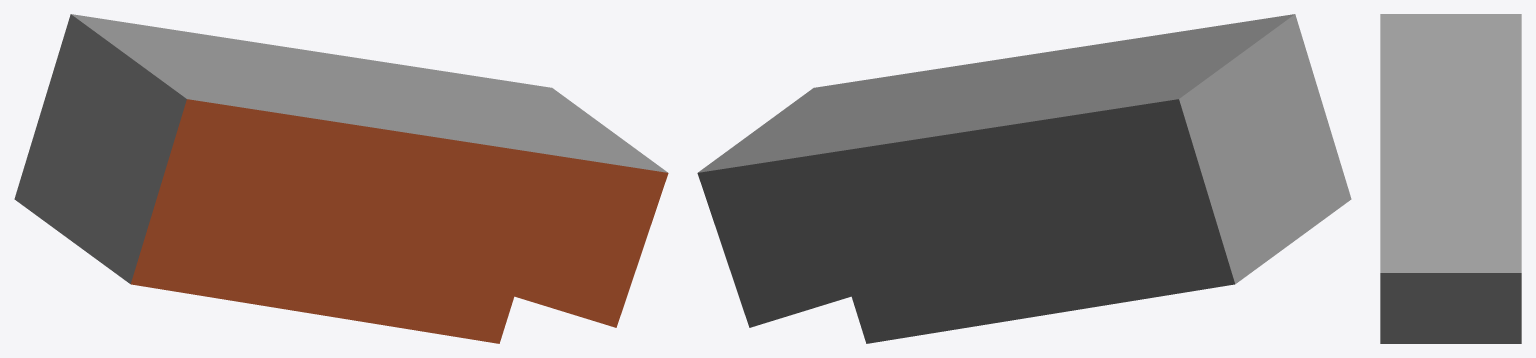
File: construction_6194_assumed_A_Casa_h6m.obj
3 renders of one model, left to right at view 1: azimuth 30°, elevation 25°; view 2: azimuth 150°, elevation 25°; view 3: azimuth 270°, elevation 25°, orthographic. The views are drawn at different scales.
Parts seen in each view (by area): view 1: construction_6194_assumed_A_Casa; view 2: construction_6194_assumed_A_Casa; view 3: construction_6194_assumed_A_Casa.
Part boxes in pixels (x1=…): construction_6194_assumed_A_Casa: x1=14, y1=14, x2=668, y2=343; construction_6194_assumed_A_Casa: x1=697, y1=14, x2=1351, y2=343; construction_6194_assumed_A_Casa: x1=1380, y1=14, x2=1521, y2=343.
Bounding box in the file's own units: 16.03 × 9.5 × 6.
